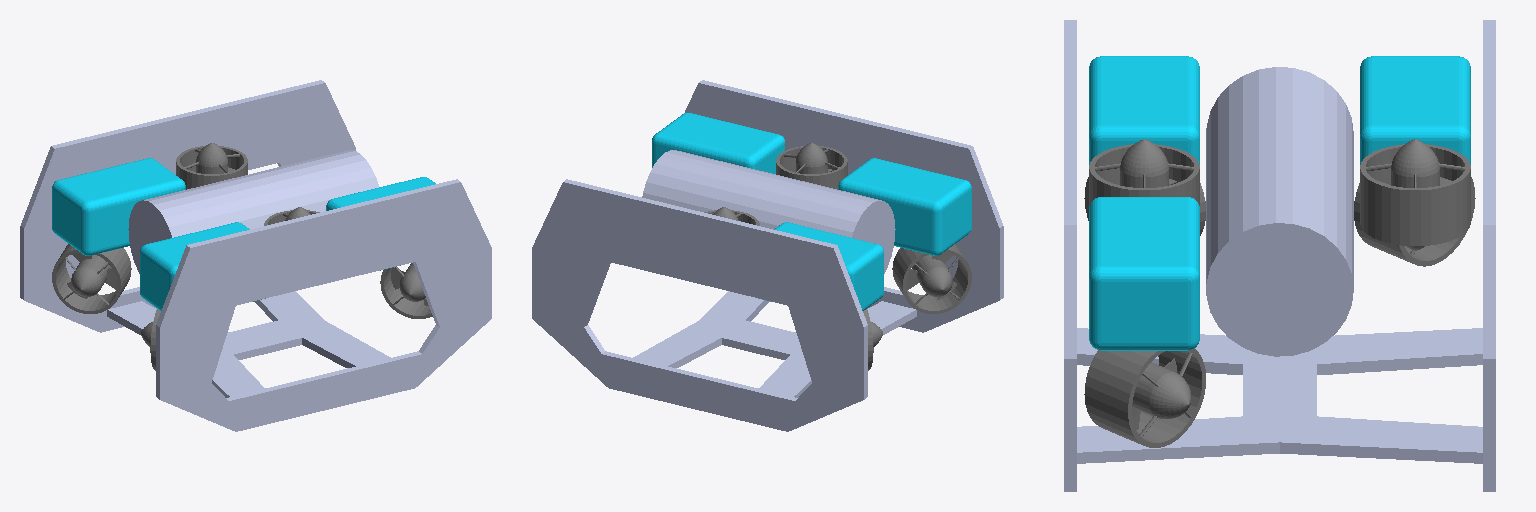
robot.urdf — UAV.SLDASM:
<?xml version="1.0" encoding="utf-8"?>
<!-- This URDF was automatically created by SolidWorks to URDF Exporter! Originally created by [author] ([email redacted]) 
     Commit Version: 1.6.0-4-g7f85cfe  Build Version: 1.6.7995.38578
     For more information, please see http://wiki.ros.org/sw_urdf_exporter -->
<robot
  name="UAV.SLDASM">
  <link
    name="base_link">
    <inertial>
      <origin
        xyz="-6.1211439218334E-17 -5.94264976967266E-18 0.0369029579428163"
        rpy="0 0 0" />
      <mass
        value="5.37121276150706" />
      <inertia
        ixx="0.0198908604895537"
        ixy="-2.7325396034247E-19"
        ixz="-9.1681936582197E-17"
        iyy="0.0747796659029658"
        iyz="8.91457725844438E-21"
        izz="0.0671801330769178" />
    </inertial>
    <visual>
      <origin
        xyz="0 0 0"
        rpy="0 0 0" />
      <geometry>
        <mesh
          filename="package://UAV.SLDASM/meshes/base_link.STL" />
      </geometry>
      <material
        name="">
        <color
          rgba="0.792156862745098 0.819607843137255 0.933333333333333 1" />
      </material>
    </visual>
    <collision>
      <origin
        xyz="0 0 0"
        rpy="0 0 0" />
      <geometry>
        <mesh
          filename="package://UAV.SLDASM/meshes/base_link.STL" />
      </geometry>
    </collision>
  </link>
  <link
    name="thruster_rm_link">
    <inertial>
      <origin
        xyz="-6.91816979167537E-06 1.85193153895012E-09 -5.87407124746919E-08"
        rpy="0 0 0" />
      <mass
        value="0.158357094966372" />
      <inertia
        ixx="0.000130051077001259"
        ixy="2.36782112513184E-11"
        ixz="-2.22201859243623E-10"
        iyy="0.000128328905911993"
        iyz="1.06489717114313E-12"
        izz="0.000128328624681977" />
    </inertial>
    <visual>
      <origin
        xyz="0 0 0"
        rpy="0 0 0" />
      <geometry>
        <mesh
          filename="package://UAV.SLDASM/meshes/thruster_rm_link.STL" />
      </geometry>
      <material
        name="">
        <color
          rgba="0.525490196078431 0.525490196078431 0.525490196078431 1" />
      </material>
    </visual>
    <collision>
      <origin
        xyz="0 0 0"
        rpy="0 0 0" />
      <geometry>
        <mesh
          filename="package://UAV.SLDASM/meshes/thruster_rm_link.STL" />
      </geometry>
    </collision>
  </link>
  <joint
    name="thruster_rm_joint"
    type="fixed">
    <origin
      xyz="0 -0.11 0.075"
      rpy="1.5707963267949 -1.5707963267949 0" />
    <parent
      link="base_link" />
    <child
      link="thruster_rm_link" />
    <axis
      xyz="0 0 0" />
  </joint>
  <link
    name="thruster_lm_link">
    <inertial>
      <origin
        xyz="6.91816979156434E-06 -1.85193153211459E-09 -5.87407124608141E-08"
        rpy="0 0 0" />
      <mass
        value="0.158357094966372" />
      <inertia
        ixx="0.000130051077001259"
        ixy="2.36782112982945E-11"
        ixz="2.22201859288491E-10"
        iyy="0.000128328905911993"
        iyz="-1.06489716658675E-12"
        izz="0.000128328624681977" />
    </inertial>
    <visual>
      <origin
        xyz="0 0 0"
        rpy="0 0 0" />
      <geometry>
        <mesh
          filename="package://UAV.SLDASM/meshes/thruster_lm_link.STL" />
      </geometry>
      <material
        name="">
        <color
          rgba="0.525490196078431 0.525490196078431 0.525490196078431 1" />
      </material>
    </visual>
    <collision>
      <origin
        xyz="0 0 0"
        rpy="0 0 0" />
      <geometry>
        <mesh
          filename="package://UAV.SLDASM/meshes/thruster_lm_link.STL" />
      </geometry>
    </collision>
  </link>
  <joint
    name="thruster_lm_joint"
    type="fixed">
    <origin
      xyz="0 0.11 0.075"
      rpy="1.5707963267949 -1.5707963267949 0" />
    <parent
      link="base_link" />
    <child
      link="thruster_lm_link" />
    <axis
      xyz="0 0 0" />
  </joint>
  <link
    name="thruster_lb_link">
    <inertial>
      <origin
        xyz="-6.91816979167537E-06 4.1920645801885E-08 -4.11893239515848E-08"
        rpy="0 0 0" />
      <mass
        value="0.158357094966372" />
      <inertia
        ixx="0.000130051077001259"
        ixy="1.70629844190263E-10"
        ixz="-1.4429061027596E-10"
        iyy="0.000128328770619849"
        iyz="1.40518260558983E-10"
        izz="0.00012832875997412" />
    </inertial>
    <visual>
      <origin
        xyz="0 0 0"
        rpy="0 0 0" />
      <geometry>
        <mesh
          filename="package://UAV.SLDASM/meshes/thruster_lb_link.STL" />
      </geometry>
      <material
        name="">
        <color
          rgba="0.525490196078431 0.525490196078431 0.525490196078431 1" />
      </material>
    </visual>
    <collision>
      <origin
        xyz="0 0 0"
        rpy="0 0 0" />
      <geometry>
        <mesh
          filename="package://UAV.SLDASM/meshes/thruster_lb_link.STL" />
      </geometry>
    </collision>
  </link>
  <joint
    name="thruster_lb_joint"
    type="fixed">
    <origin
      xyz="-0.174644660940673 0.109289321881345 -0.0150000000000003"
      rpy="1.5707963267949 0 -2.35619449019234" />
    <parent
      link="base_link" />
    <child
      link="thruster_lb_link" />
    <axis
      xyz="0 0 0" />
  </joint>
  <link
    name="thruster_rb_link">
    <inertial>
      <origin
        xyz="6.918169791717E-06 -4.19206458296406E-08 -4.1189324007096E-08"
        rpy="0 0 0" />
      <mass
        value="0.158357094966372" />
      <inertia
        ixx="0.000130051077001259"
        ixy="1.7062984422054E-10"
        ixz="1.44290610282736E-10"
        iyy="0.000128328770619849"
        iyz="-1.40518260482861E-10"
        izz="0.00012832875997412" />
    </inertial>
    <visual>
      <origin
        xyz="0 0 0"
        rpy="0 0 0" />
      <geometry>
        <mesh
          filename="package://UAV.SLDASM/meshes/thruster_rb_link.STL" />
      </geometry>
      <material
        name="">
        <color
          rgba="0.525490196078431 0.525490196078431 0.525490196078431 1" />
      </material>
    </visual>
    <collision>
      <origin
        xyz="0 0 0"
        rpy="0 0 0" />
      <geometry>
        <mesh
          filename="package://UAV.SLDASM/meshes/thruster_rb_link.STL" />
      </geometry>
    </collision>
  </link>
  <joint
    name="thruster_rb_joint"
    type="fixed">
    <origin
      xyz="-0.174644660940673 -0.109289321881345 -0.0150000000000003"
      rpy="-1.5707963267949 0 2.35619449019234" />
    <parent
      link="base_link" />
    <child
      link="thruster_rb_link" />
    <axis
      xyz="0 0 0" />
  </joint>
  <link
    name="thruster_rf_link">
    <inertial>
      <origin
        xyz="-6.9181697915921E-06 4.1920645801885E-08 -4.11893239515848E-08"
        rpy="0 0 0" />
      <mass
        value="0.158357094966372" />
      <inertia
        ixx="0.000130051077001259"
        ixy="1.7062984417765E-10"
        ixz="-1.44290610282736E-10"
        iyy="0.000128328770619849"
        iyz="1.4051826050651E-10"
        izz="0.00012832875997412" />
    </inertial>
    <visual>
      <origin
        xyz="0 0 0"
        rpy="0 0 0" />
      <geometry>
        <mesh
          filename="package://UAV.SLDASM/meshes/thruster_rf_link.STL" />
      </geometry>
      <material
        name="">
        <color
          rgba="0.525490196078431 0.525490196078431 0.525490196078431 1" />
      </material>
    </visual>
    <collision>
      <origin
        xyz="0 0 0"
        rpy="0 0 0" />
      <geometry>
        <mesh
          filename="package://UAV.SLDASM/meshes/thruster_rf_link.STL" />
      </geometry>
    </collision>
  </link>
  <joint
    name="thruster_rf_joint"
    type="fixed">
    <origin
      xyz="0.174644660940673 -0.109289321881345 -0.0149999999999996"
      rpy="1.5707963267949 0 0.78539816339745" />
    <parent
      link="base_link" />
    <child
      link="thruster_rf_link" />
    <axis
      xyz="0 0 0" />
  </joint>
  <link
    name="thruster_lf_link">
    <inertial>
      <origin
        xyz="6.918169791717E-06 -4.19206458296406E-08 -4.1189324007096E-08"
        rpy="0 0 0" />
      <mass
        value="0.158357094966372" />
      <inertia
        ixx="0.000130051077001259"
        ixy="1.70629844220514E-10"
        ixz="1.44290610309841E-10"
        iyy="0.000128328770619849"
        iyz="-1.40518260482812E-10"
        izz="0.00012832875997412" />
    </inertial>
    <visual>
      <origin
        xyz="0 0 0"
        rpy="0 0 0" />
      <geometry>
        <mesh
          filename="package://UAV.SLDASM/meshes/thruster_lf_link.STL" />
      </geometry>
      <material
        name="">
        <color
          rgba="0.525490196078431 0.525490196078431 0.525490196078431 1" />
      </material>
    </visual>
    <collision>
      <origin
        xyz="0 0 0"
        rpy="0 0 0" />
      <geometry>
        <mesh
          filename="package://UAV.SLDASM/meshes/thruster_lf_link.STL" />
      </geometry>
    </collision>
  </link>
  <joint
    name="thruster_lf_joint"
    type="fixed">
    <origin
      xyz="0.174644660940673 0.109289321881345 -0.0149999999999996"
      rpy="-1.5707963267949 0 -0.78539816339745" />
    <parent
      link="base_link" />
    <child
      link="thruster_lf_link" />
    <axis
      xyz="0 0 0" />
  </joint>
  <link
    name="buoyancy_block_rf_link">
    <inertial>
      <origin
        xyz="0 0.0375 0"
        rpy="0 0 0" />
      <mass
        value="0.986799402871326" />
      <inertia
        ixx="0.00109293658425254"
        ixy="-1.19114008207636E-19"
        ixz="4.54949336904165E-20"
        iyy="0.00245175653521507"
        iyz="-4.5908523996693E-20"
        izz="0.00225403081876863" />
    </inertial>
    <visual>
      <origin
        xyz="0 0 0"
        rpy="0 0 0" />
      <geometry>
        <mesh
          filename="package://UAV.SLDASM/meshes/buoyancy_block_rf_link.STL" />
      </geometry>
      <material
        name="">
        <color
          rgba="0.129411764705882 0.874509803921569 1 1" />
      </material>
    </visual>
    <collision>
      <origin
        xyz="0 0 0"
        rpy="0 0 0" />
      <geometry>
        <mesh
          filename="package://UAV.SLDASM/meshes/buoyancy_block_rf_link.STL" />
      </geometry>
    </collision>
  </link>
  <joint
    name="banyancy_block_rf_joint"
    type="fixed">
    <origin
      xyz="0.135 -0.11 0.0300000000000003"
      rpy="1.5707963267949 0 0" />
    <parent
      link="base_link" />
    <child
      link="buoyancy_block_rf_link" />
    <axis
      xyz="0 0 0" />
  </joint>
  <link
    name="buoyancy_block_lf_link">
    <inertial>
      <origin
        xyz="0 -0.0375 0"
        rpy="0 0 0" />
      <mass
        value="0.986799402871326" />
      <inertia
        ixx="0.00109293658425254"
        ixy="-1.6130021944784E-19"
        ixz="5.8729823491265E-20"
        iyy="0.00245175653521507"
        iyz="4.92172464469051E-20"
        izz="0.00225403081876863" />
    </inertial>
    <visual>
      <origin
        xyz="0 0 0"
        rpy="0 0 0" />
      <geometry>
        <mesh
          filename="package://UAV.SLDASM/meshes/buoyancy_block_lf_link.STL" />
      </geometry>
      <material
        name="">
        <color
          rgba="0.129411764705882 0.874509803921569 1 1" />
      </material>
    </visual>
    <collision>
      <origin
        xyz="0 0 0"
        rpy="0 0 0" />
      <geometry>
        <mesh
          filename="package://UAV.SLDASM/meshes/buoyancy_block_lf_link.STL" />
      </geometry>
    </collision>
  </link>
  <joint
    name="banyancy_block_lf_joint"
    type="fixed">
    <origin
      xyz="0.135 0.11 0.0300000000000003"
      rpy="-1.5707963267949 0 0" />
    <parent
      link="base_link" />
    <child
      link="buoyancy_block_lf_link" />
    <axis
      xyz="0 0 0" />
  </joint>
  <link
    name="buoyancy_block_lb_link">
    <inertial>
      <origin
        xyz="0 -0.0375 0"
        rpy="0 0 0" />
      <mass
        value="0.986799402871326" />
      <inertia
        ixx="0.00109293658425254"
        ixy="-1.19941188820189E-19"
        ixz="-4.54949336904165E-20"
        iyy="0.00245175653521507"
        iyz="4.17726209339279E-20"
        izz="0.00225403081876863" />
    </inertial>
    <visual>
      <origin
        xyz="0 0 0"
        rpy="0 0 0" />
      <geometry>
        <mesh
          filename="package://UAV.SLDASM/meshes/buoyancy_block_lb_link.STL" />
      </geometry>
      <material
        name="">
        <color
          rgba="0.129411764705882 0.874509803921569 1 1" />
      </material>
    </visual>
    <collision>
      <origin
        xyz="0 0 0"
        rpy="0 0 0" />
      <geometry>
        <mesh
          filename="package://UAV.SLDASM/meshes/buoyancy_block_lb_link.STL" />
      </geometry>
    </collision>
  </link>
  <joint
    name="buoyancy_block_lb_joint"
    type="fixed">
    <origin
      xyz="-0.135 0.11 0.0299999999999998"
      rpy="-1.5707963267949 0 0" />
    <parent
      link="base_link" />
    <child
      link="buoyancy_block_lb_link" />
    <axis
      xyz="0 0 0" />
  </joint>
  <link
    name="buoyancy_block_rb_link">
    <inertial>
      <origin
        xyz="0 0.0375 0"
        rpy="0 0 0" />
      <mass
        value="0.986799402871326" />
      <inertia
        ixx="0.00109293658425254"
        ixy="-1.51374052097204E-19"
        ixz="-5.12851979782877E-20"
        iyy="0.00245175653521507"
        iyz="-5.08716076720112E-20"
        izz="0.00225403081876863" />
    </inertial>
    <visual>
      <origin
        xyz="0 0 0"
        rpy="0 0 0" />
      <geometry>
        <mesh
          filename="package://UAV.SLDASM/meshes/buoyancy_block_rb_link.STL" />
      </geometry>
      <material
        name="">
        <color
          rgba="0.129411764705882 0.874509803921569 1 1" />
      </material>
    </visual>
    <collision>
      <origin
        xyz="0 0 0"
        rpy="0 0 0" />
      <geometry>
        <mesh
          filename="package://UAV.SLDASM/meshes/buoyancy_block_rb_link.STL" />
      </geometry>
    </collision>
  </link>
  <joint
    name="buoyancy_block_rb_joint"
    type="fixed">
    <origin
      xyz="-0.135 -0.11 0.0299999999999998"
      rpy="1.5707963267949 0 0" />
    <parent
      link="base_link" />
    <child
      link="buoyancy_block_rb_link" />
    <axis
      xyz="0 0 0" />
  </joint>
</robot>

--- What the picture shows (computed from the rendered views, not written in the file) ---
The picture shows the robot from 3 angles, left to right: view 1: azimuth 30°, elevation 25°; view 2: azimuth 150°, elevation 25°; view 3: azimuth 270°, elevation 25°; orthographic projection.
Model UAV.SLDASM with 11 links and 10 joints (10 fixed), rooted at base_link, posed every joint at zero.
Visible links, largest first — view 1: base_link, buoyancy_block_lb_link, thruster_lb_link, buoyancy_block_rb_link, thruster_lm_link, thruster_rf_link, buoyancy_block_rf_link; view 2: base_link, buoyancy_block_rb_link, buoyancy_block_rf_link, thruster_rb_link, buoyancy_block_lb_link, thruster_rm_link; view 3: base_link, buoyancy_block_rf_link, thruster_lm_link, buoyancy_block_lb_link, buoyancy_block_rb_link, thruster_rf_link, thruster_rm_link, thruster_lb_link.
Boxes of the visible links, x1,y1,x2,y2 form: base_link: (20,80,491,431); buoyancy_block_lb_link: (52,158,185,255); thruster_lb_link: (52,244,131,313); buoyancy_block_rb_link: (140,222,265,310); thruster_lm_link: (176,143,247,189); thruster_rf_link: (380,263,432,318); buoyancy_block_rf_link: (326,177,435,270); base_link: (532,80,1003,431); buoyancy_block_rb_link: (838,158,971,255); buoyancy_block_rf_link: (652,113,784,173); thruster_rb_link: (892,244,971,313); buoyancy_block_lb_link: (758,222,883,310); thruster_rm_link: (776,143,847,189); base_link: (1064,20,1495,491); buoyancy_block_rf_link: (1089,197,1199,350); thruster_lm_link: (1360,139,1470,250); buoyancy_block_lb_link: (1360,56,1470,164); buoyancy_block_rb_link: (1089,56,1199,164); thruster_rf_link: (1084,348,1205,447); thruster_rm_link: (1089,139,1199,205); thruster_lb_link: (1354,177,1475,266).
Bounding box of the posed robot: 0.48 × 0.35 × 0.27 m (x, y, z).
Meshes: 11 distinct files referenced, 9 mesh visuals loaded (9 binary STL); not drawn: 2 (reference not matched to a file when rendering).